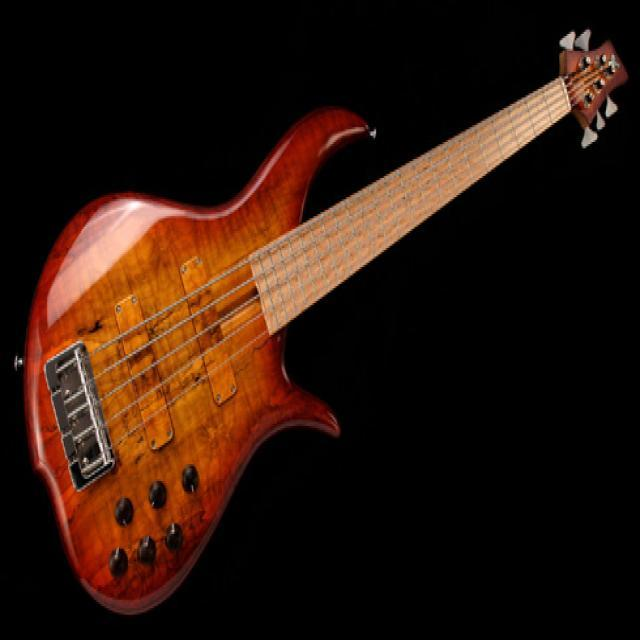bass: (23, 33, 626, 612)
